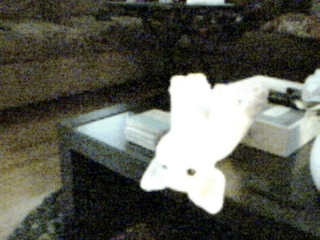piggy: (138, 69, 259, 216)
